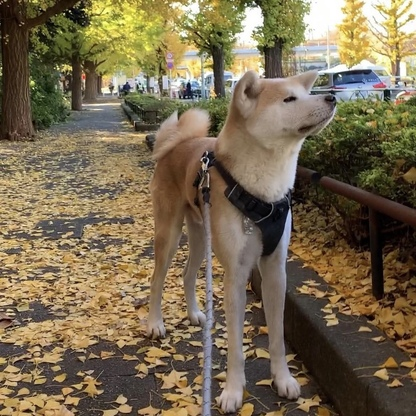akita: (137, 63, 342, 416)
